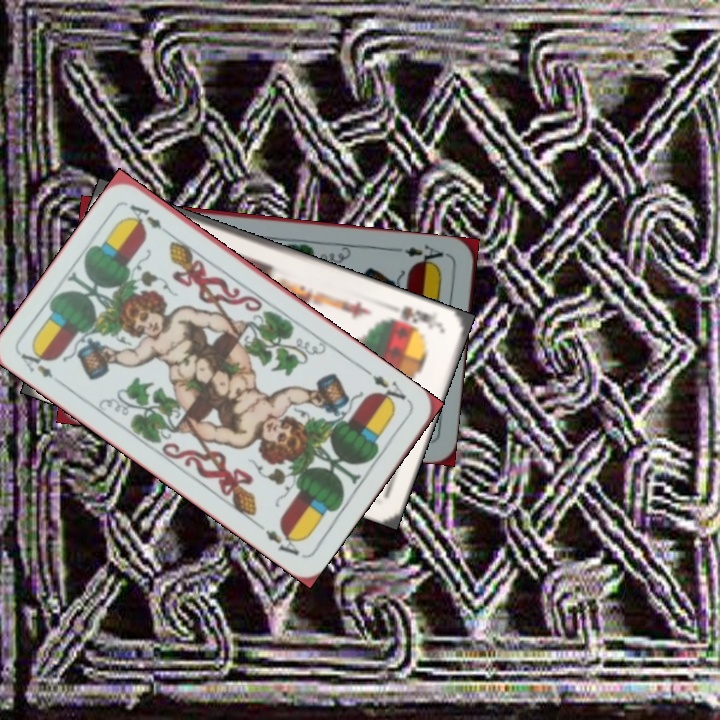EA: (16, 345, 67, 389), (368, 371, 413, 410), (400, 240, 451, 269)
SK: (384, 302, 443, 331)
